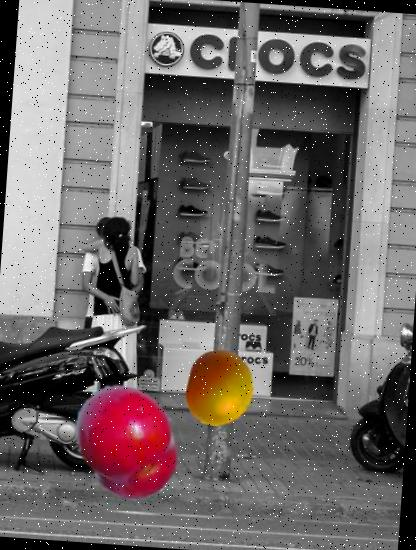Cherry: (63, 377, 191, 505), (180, 348, 260, 428)
